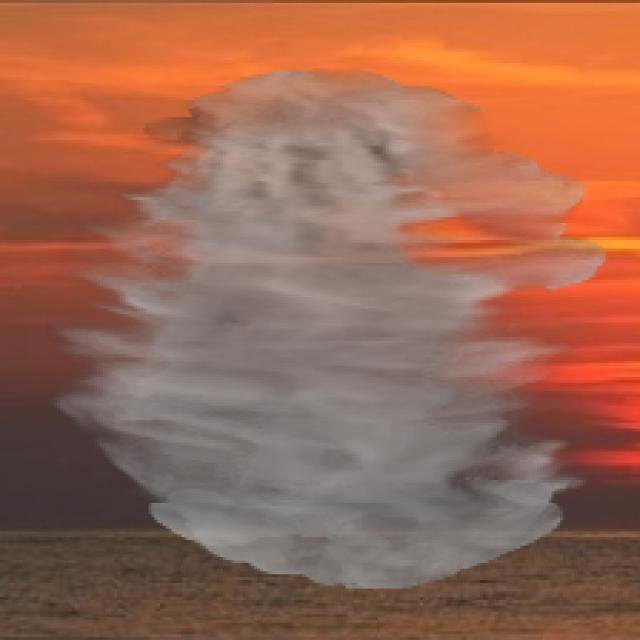Smoke: (46, 69, 608, 588)
